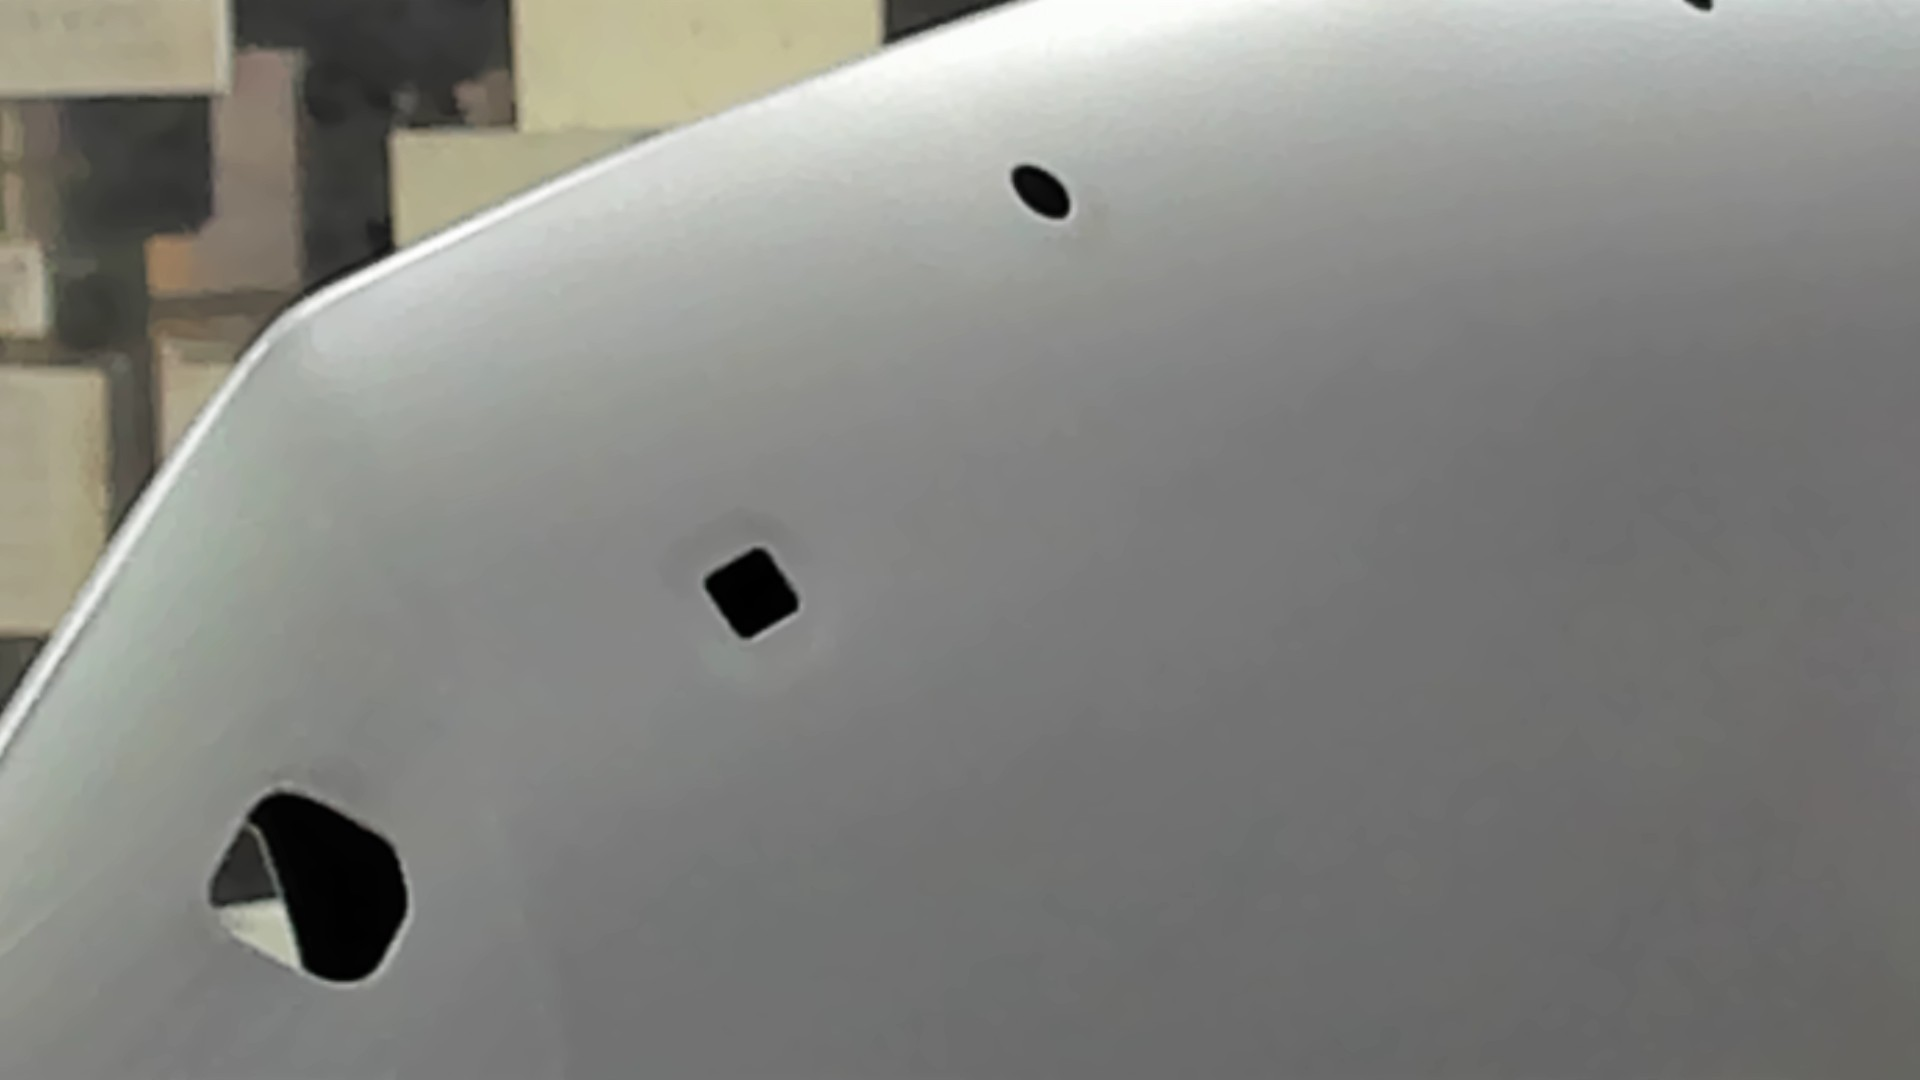chico: (1009, 160, 1073, 223), (1677, 1, 1720, 15)
grande: (203, 786, 415, 988)
mediano: (699, 543, 803, 647)
